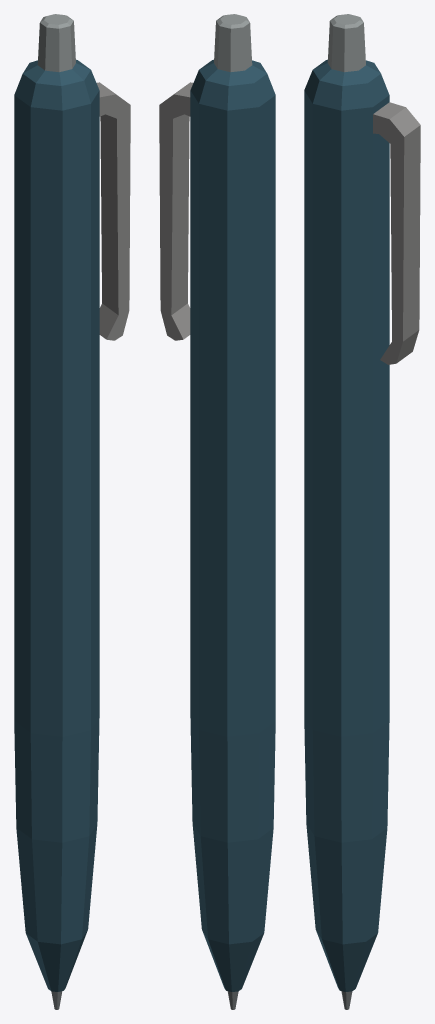
Rendered from SM_Props_Interior_Generic_Office_Pen.fbx.
The picture shows the model from 3 angles, left to right: view 1: azimuth 30°, elevation 25°; view 2: azimuth 150°, elevation 25°; view 3: azimuth 330°, elevation 25°; orthographic projection.
Parts seen in each view (by area): view 1: SM_Props_Interior_Generic_Office_Pen; view 2: SM_Props_Interior_Generic_Office_Pen; view 3: SM_Props_Interior_Generic_Office_Pen.
Boxes of the visible parts, x1,y1,x2,y2 form: SM_Props_Interior_Generic_Office_Pen: (14,14,130,1009); SM_Props_Interior_Generic_Office_Pen: (159,14,275,1009); SM_Props_Interior_Generic_Office_Pen: (304,14,420,1009).
Size of the model in its own units: 2.24 by 21.21 by 1.54.
